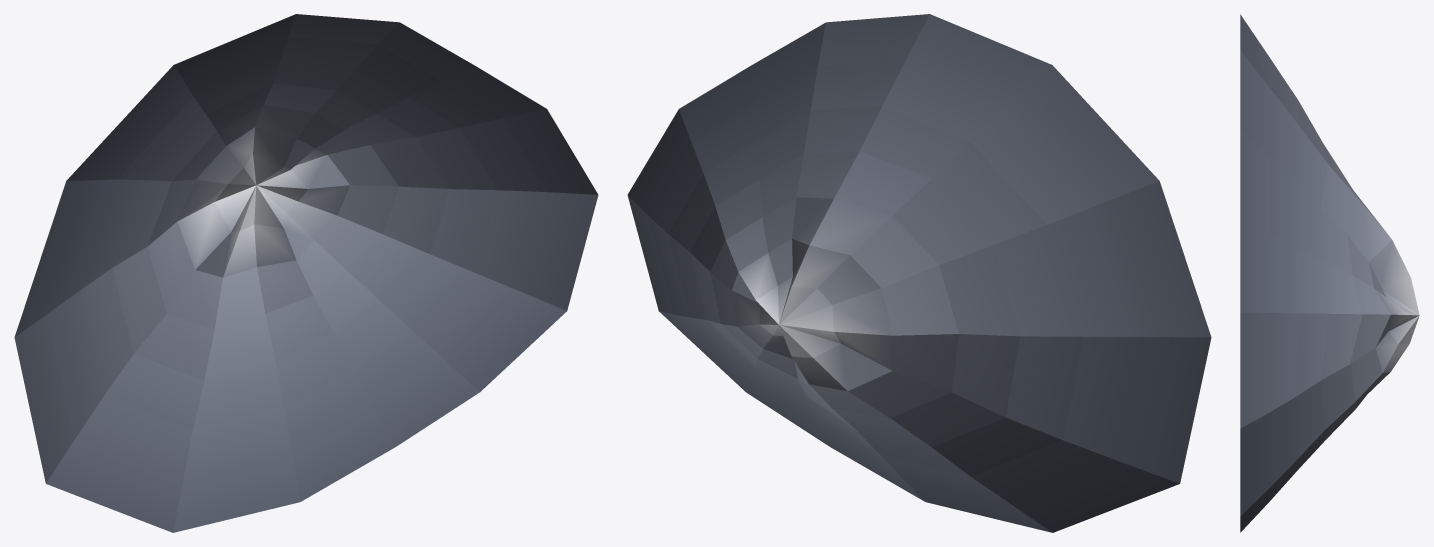
The model's file is mtn_ridge_a.glb.
3 renders of one model, left to right at view 1: azimuth 30°, elevation 25°; view 2: azimuth 150°, elevation 25°; view 3: azimuth 270°, elevation 25°, orthographic. The views are drawn at different scales.
Visible parts, largest first — view 1: mtn_ridge_a; view 2: mtn_ridge_a; view 3: mtn_ridge_a.
Part boxes in pixels (x1,y1,x2,y2): mtn_ridge_a: (14,14,598,532); mtn_ridge_a: (627,14,1211,532); mtn_ridge_a: (1240,14,1419,532).
Size of the model in its own units: 3.04 by 2.43 by 0.86.
